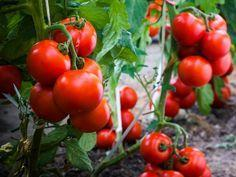healthy-tomato: (53, 59, 105, 121), (27, 41, 72, 89), (55, 18, 99, 59), (30, 83, 69, 124), (165, 148, 214, 177), (172, 13, 208, 48), (141, 133, 176, 168), (179, 56, 214, 89), (201, 31, 232, 61), (174, 79, 197, 110), (118, 86, 139, 111)
